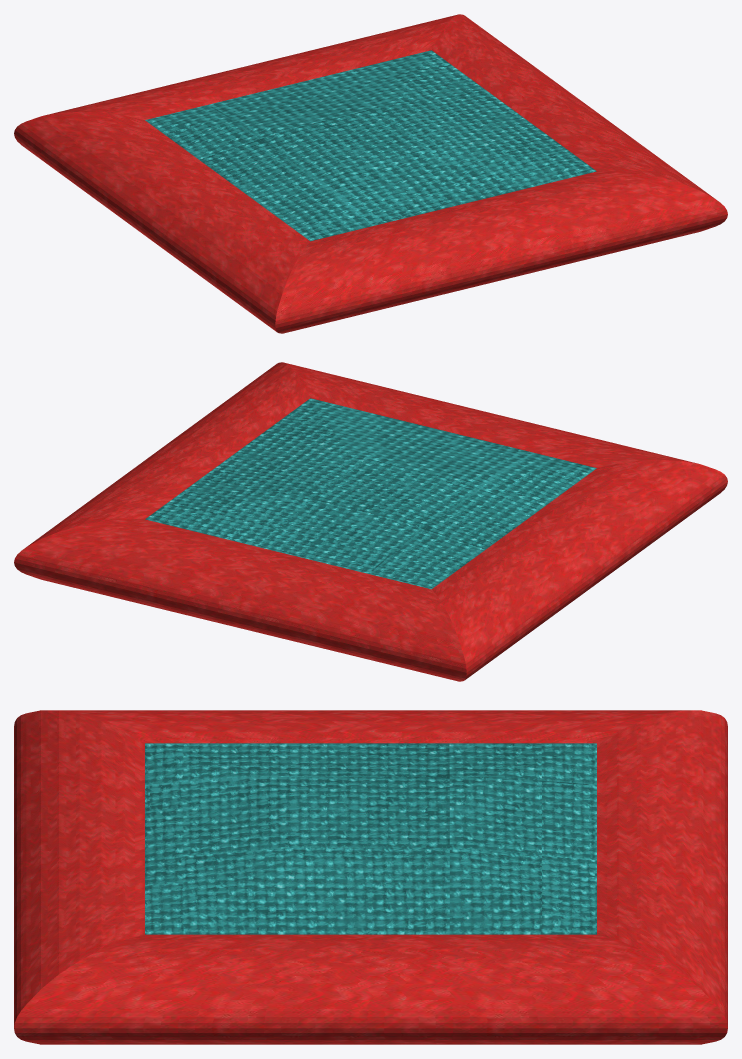
The model's file is CuShion_02.FBX.
The picture shows the model from 3 angles, top to bottom: view 1: azimuth 30°, elevation 25°; view 2: azimuth 150°, elevation 25°; view 3: azimuth 270°, elevation 25°; orthographic projection. The views are drawn at different scales.
Parts seen in each view (by area): view 1: CuShion_02; view 2: CuShion_02; view 3: CuShion_02.
Part boxes in pixels (x1,y1,x2,y2): CuShion_02: (14,14,727,333); CuShion_02: (14,362,727,681); CuShion_02: (14,710,727,1044).
Bounding box in the file's own units: 54.57 × 8.44 × 54.57.
